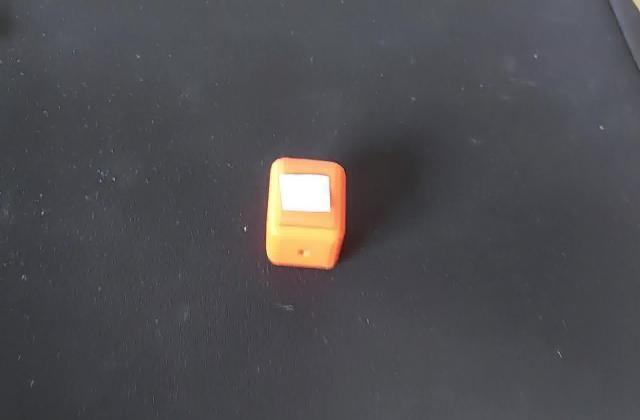sticker: (260, 156, 348, 276)
white: (276, 170, 338, 220)
